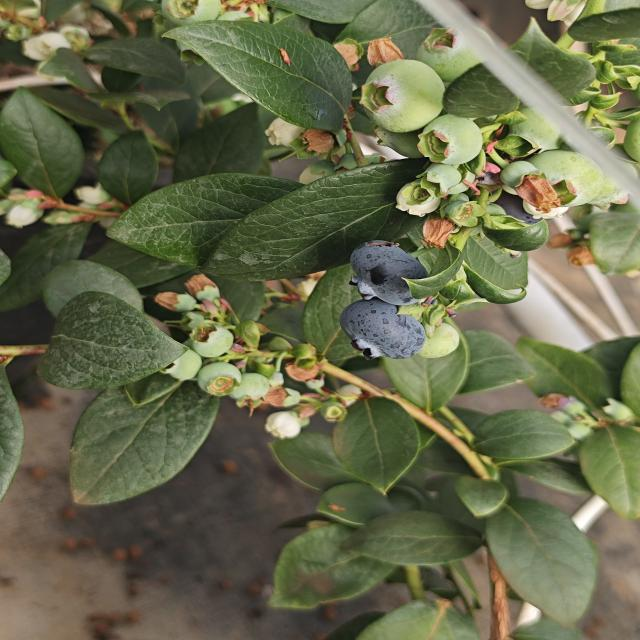ripe: (334, 289, 422, 355), (350, 245, 443, 301)
